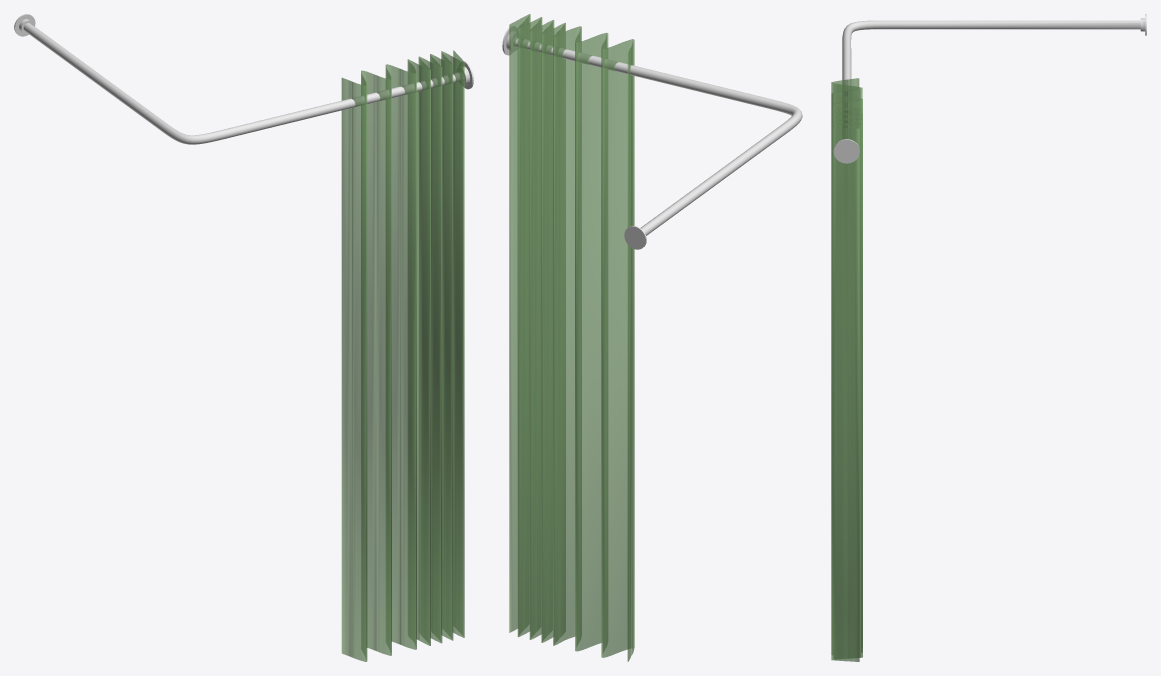
File: showercurtain.fbx
The picture shows the model from 3 angles, left to right: view 1: azimuth 30°, elevation 25°; view 2: azimuth 150°, elevation 25°; view 3: azimuth 270°, elevation 25°; orthographic projection. The views are drawn at different scales.
Parts seen in each view (by area): view 1: Verho, Cylinder.001; view 2: Verho, Cylinder.001; view 3: Verho, Cylinder.001.
Boxes of the visible parts, x1,y1,x2,y2 form: Verho: (341, 50, 464, 661); Cylinder.001: (14, 14, 473, 144); Verho: (509, 14, 634, 661); Cylinder.001: (502, 26, 802, 249); Verho: (831, 78, 862, 661); Cylinder.001: (833, 14, 1146, 163).
Bounding box in the file's own units: 1.06 × 2 × 1.07.
